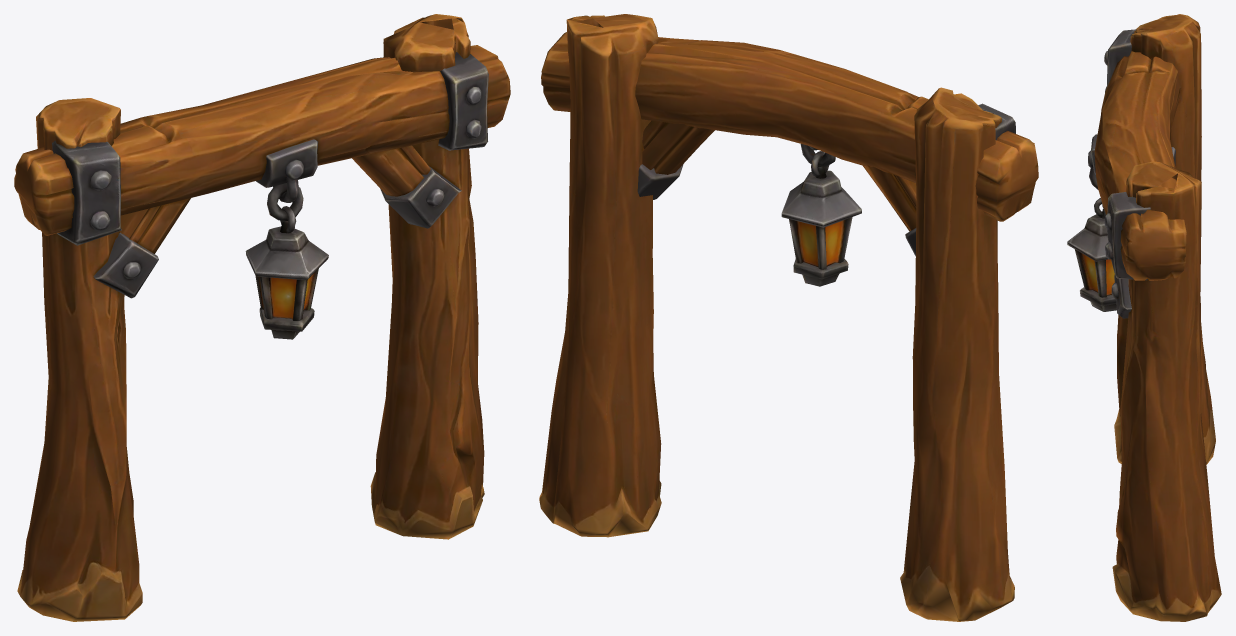
Rendered from tunnel_poutres.glb.
The picture shows the model from 3 angles, left to right: view 1: azimuth 30°, elevation 25°; view 2: azimuth 150°, elevation 25°; view 3: azimuth 270°, elevation 25°; orthographic projection. The views are drawn at different scales.
Parts seen in each view (by area): view 1: geometry_0; view 2: geometry_0; view 3: geometry_0.
Boxes of the visible parts, bbox=[...] form: geometry_0: bbox=[14, 14, 510, 621]; geometry_0: bbox=[539, 14, 1038, 621]; geometry_0: bbox=[1067, 14, 1221, 621].
Bounding box in the file's own units: 0.9507 × 0.9502 × 0.3066.
1 material, 1 textured.
